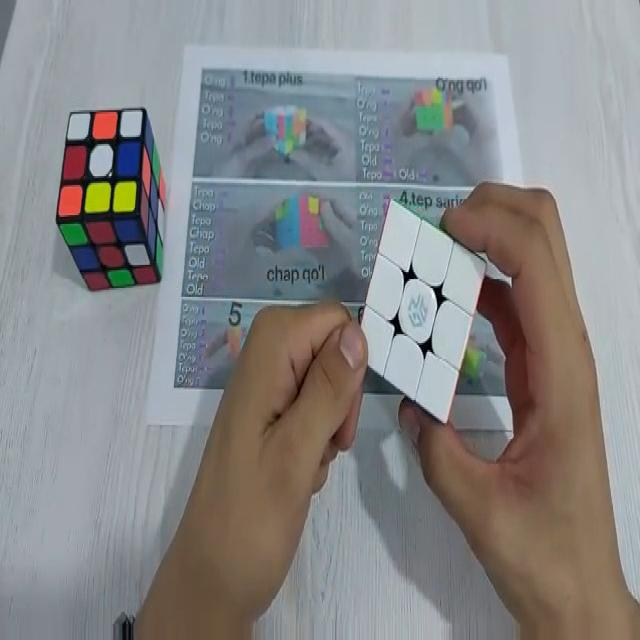Rub: (358, 199, 488, 422), (58, 104, 167, 292)
